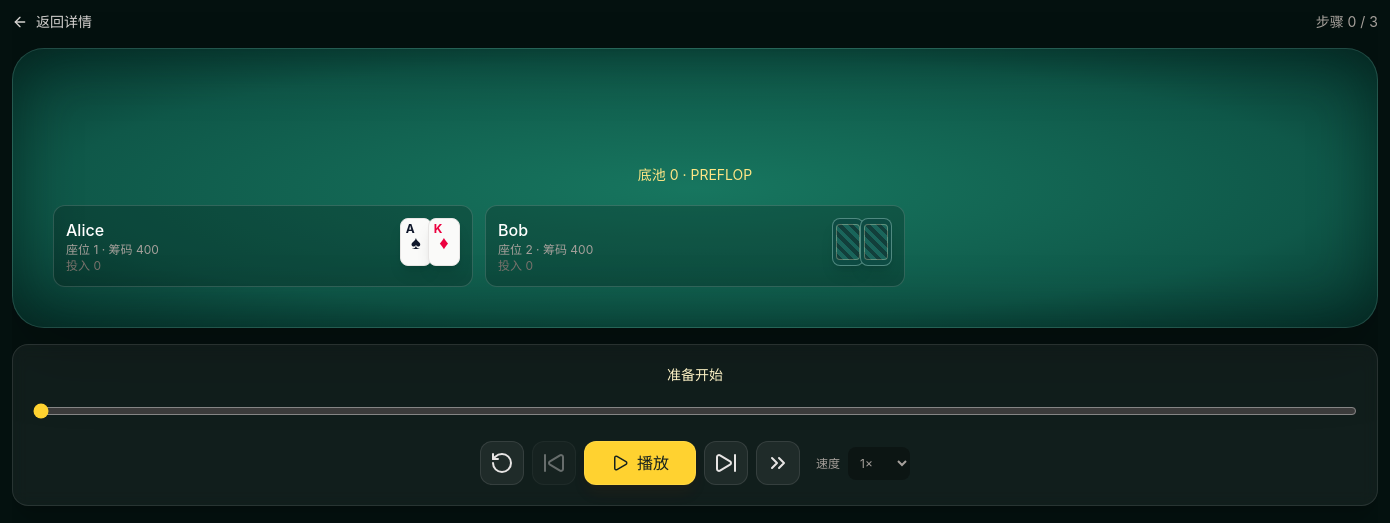
it: ReplayPage playback lifecycle › labels a purchased reveal as post-hand authorization instead of showdown disclosure
Click the button named "跳到结束": (778, 463) [756,441,800,485]
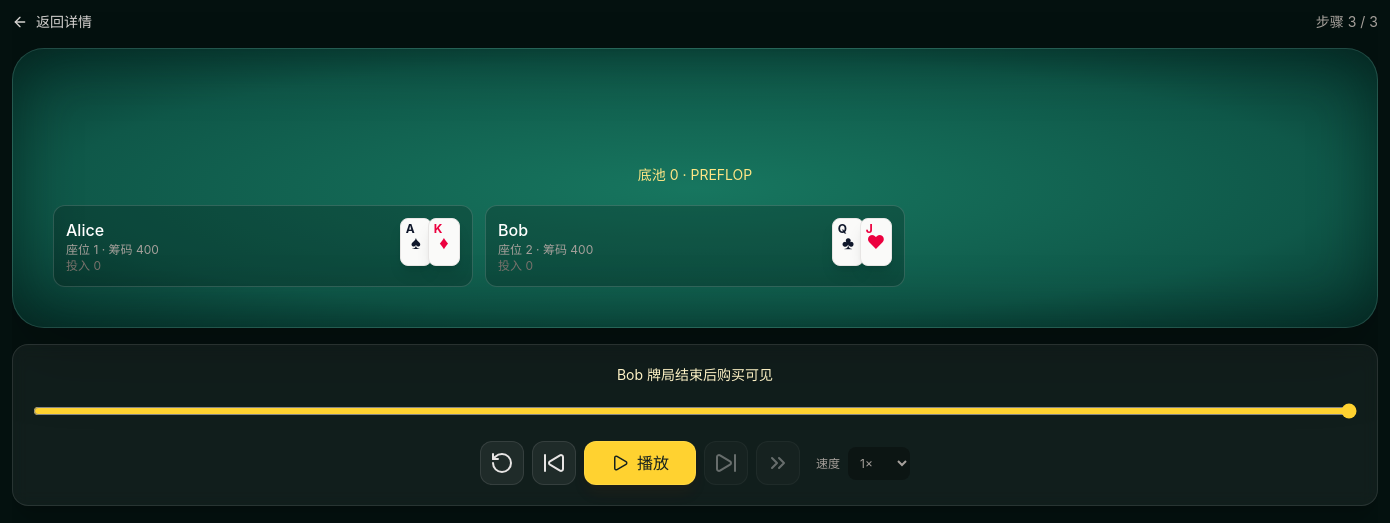
Expected: the text "Bob 牌局结束后购买可见" is shown, [617,366,773,383]
